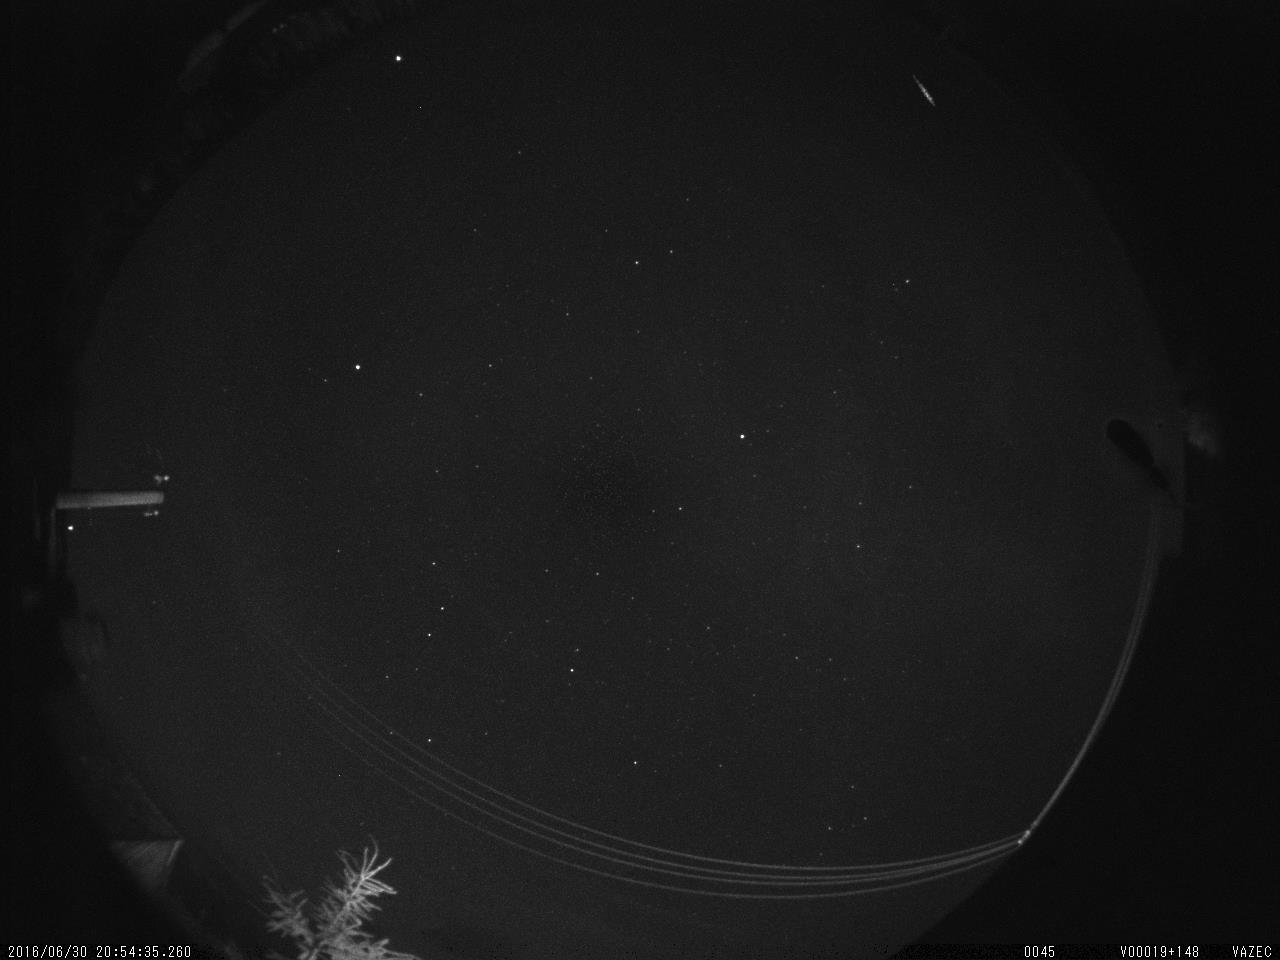meteor: (908, 74, 940, 108)
